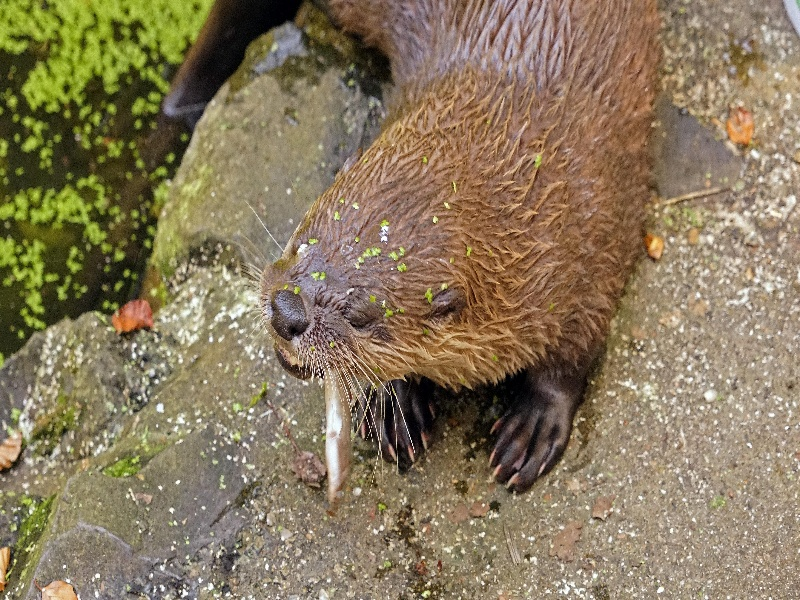minkish: (164, 1, 665, 507)
